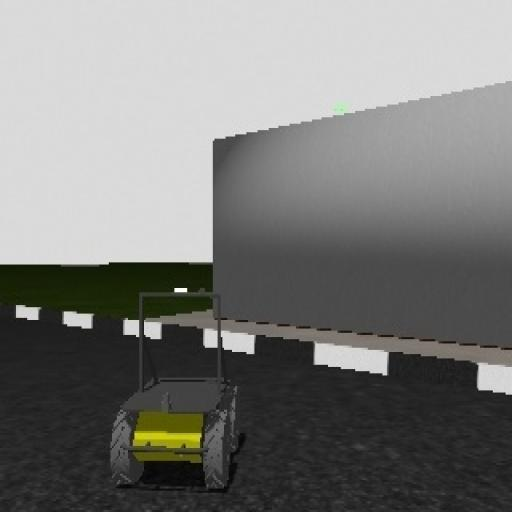huskya200: (101, 280, 256, 506)
